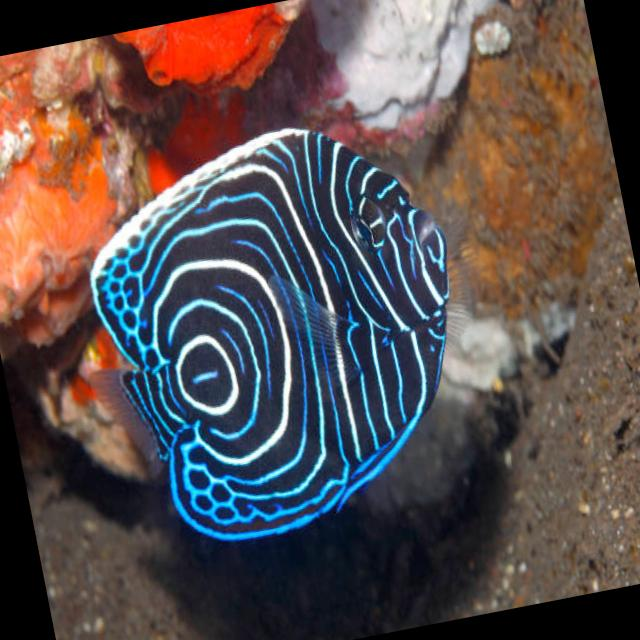AngelFish: (66, 102, 497, 570)
